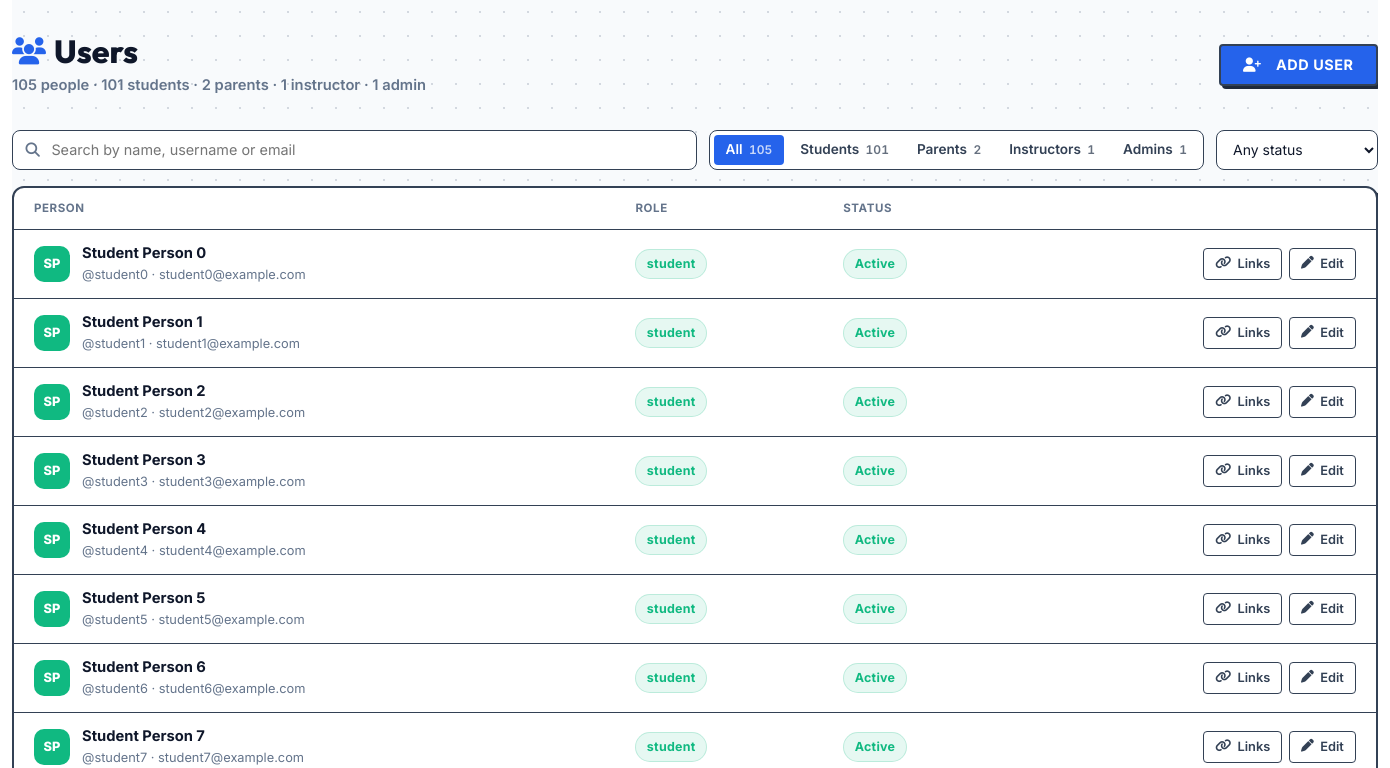
Test: users list › filters by status and offers a way back from an empty result
expect the text "105 people" is shown: met, box [12, 76, 426, 94]
Step 1. Select "Inactive" in the dropdown named "filter by status" → (1297, 150), box [1216, 130, 1378, 170]
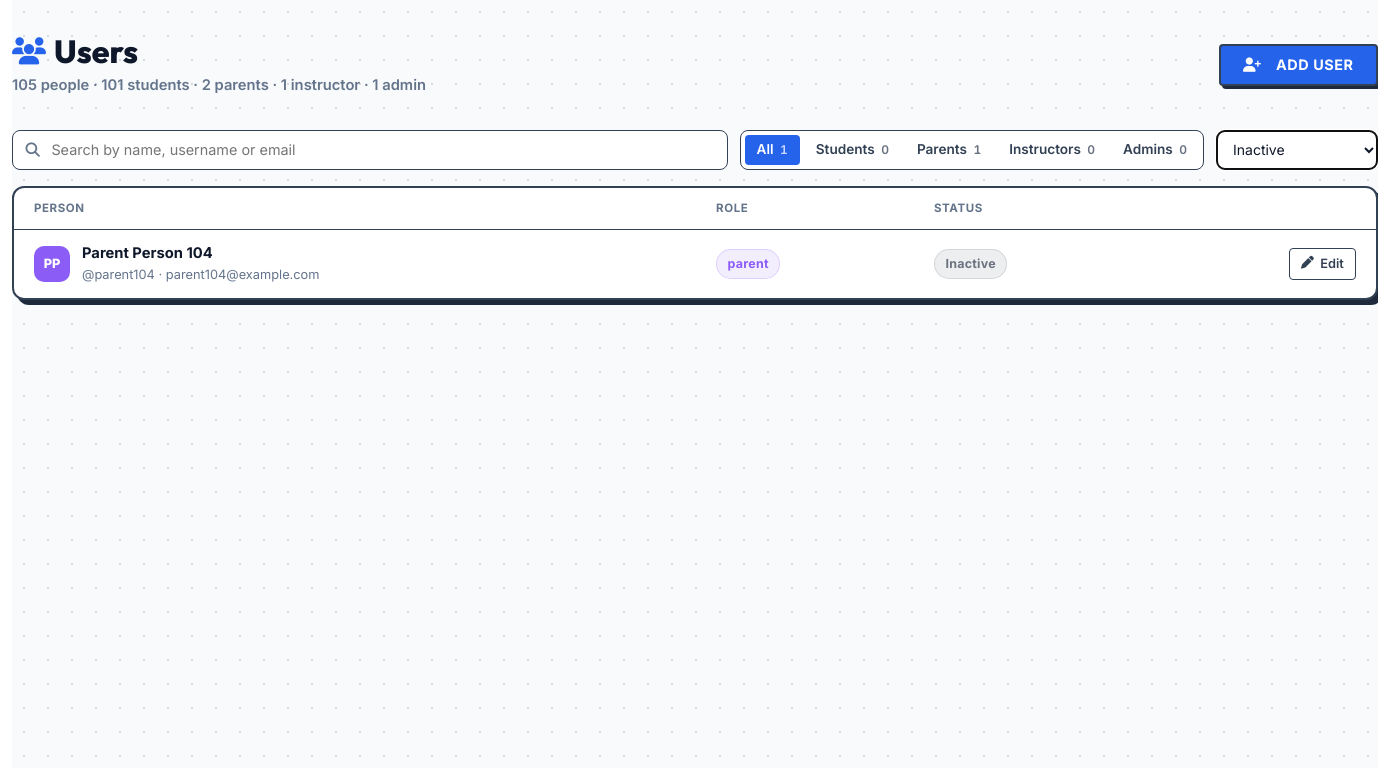
Step 2. Type "nobody-matches" into the search field named "search users" → (370, 150), box [12, 130, 728, 170]
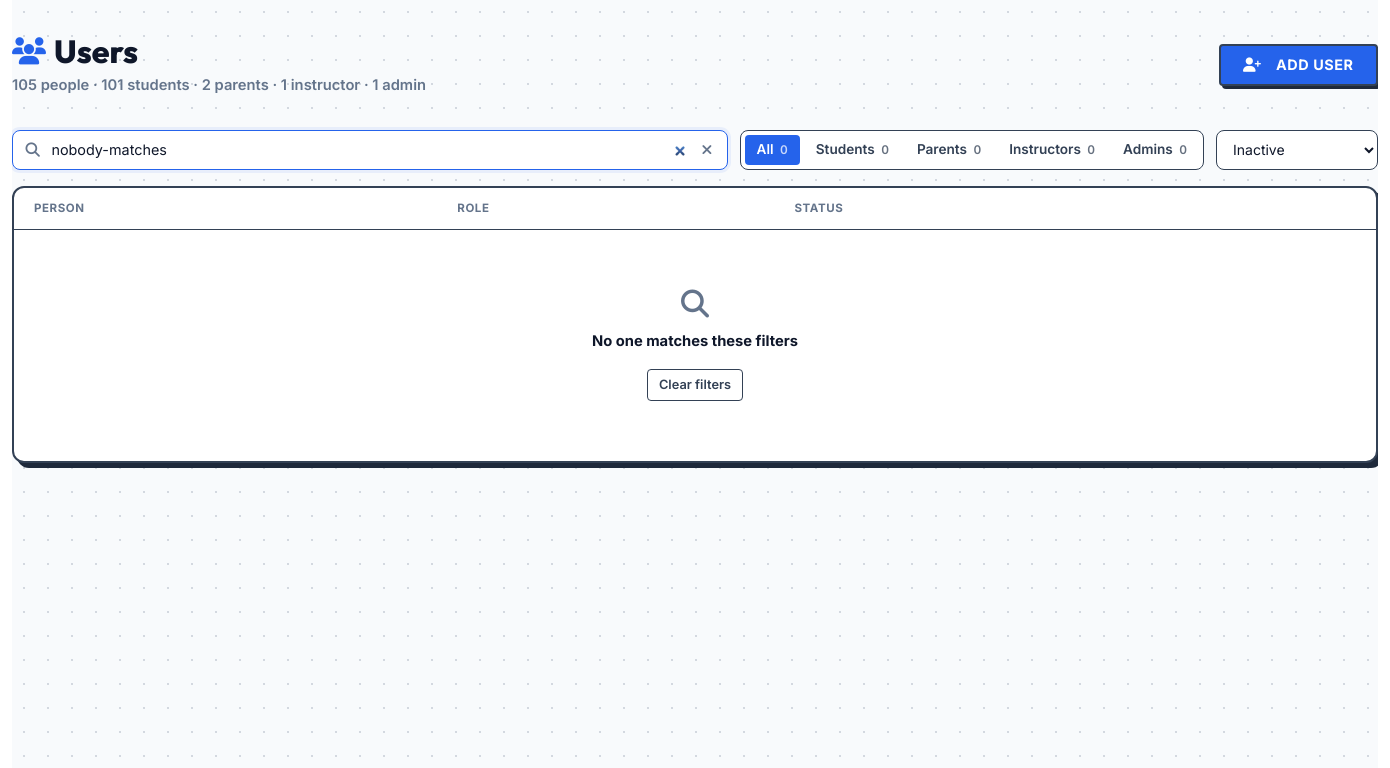
expect the text "No one matches these filters" is shown: met, box [592, 332, 798, 350]
Step 3. Click the button "Clear filters" → (695, 385), box [647, 369, 743, 401]
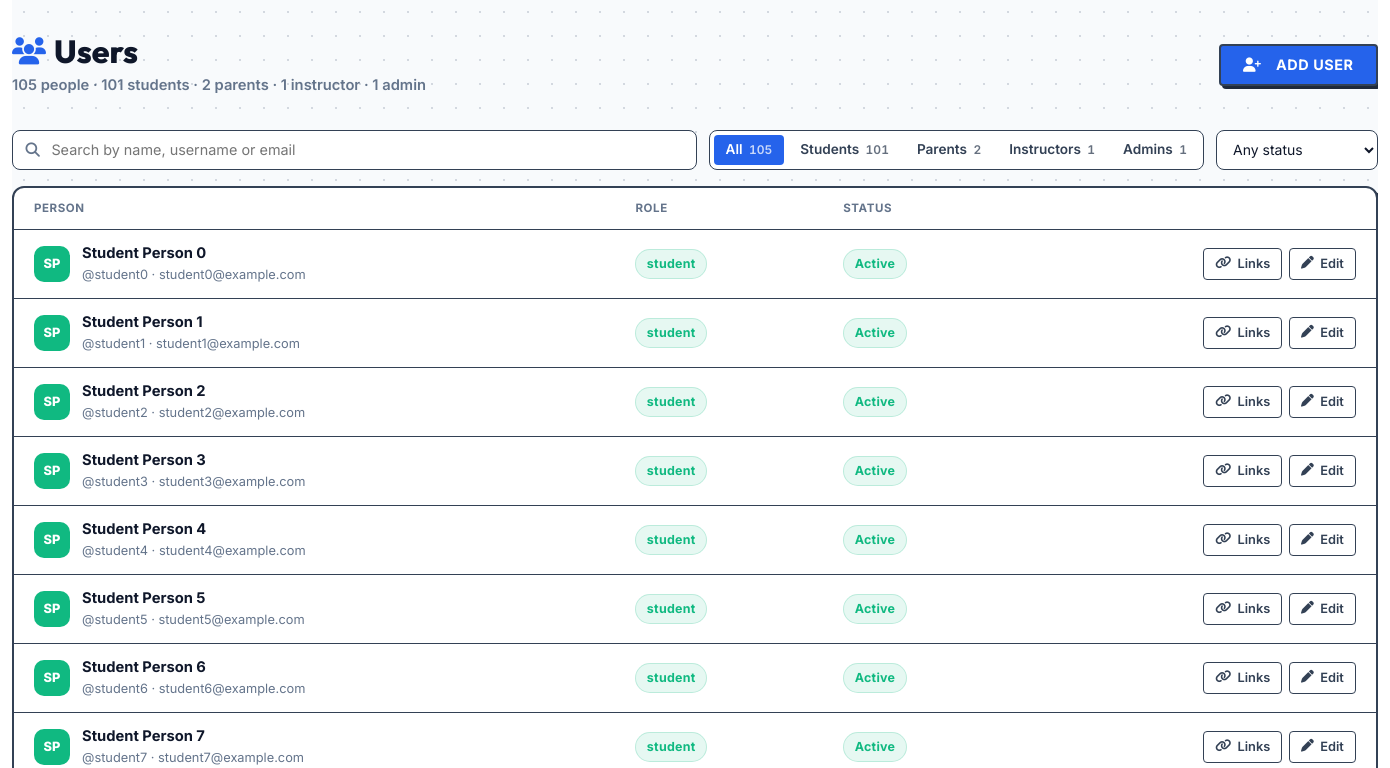
expect the search field named "search users" is empty: met, box [12, 130, 696, 170]
